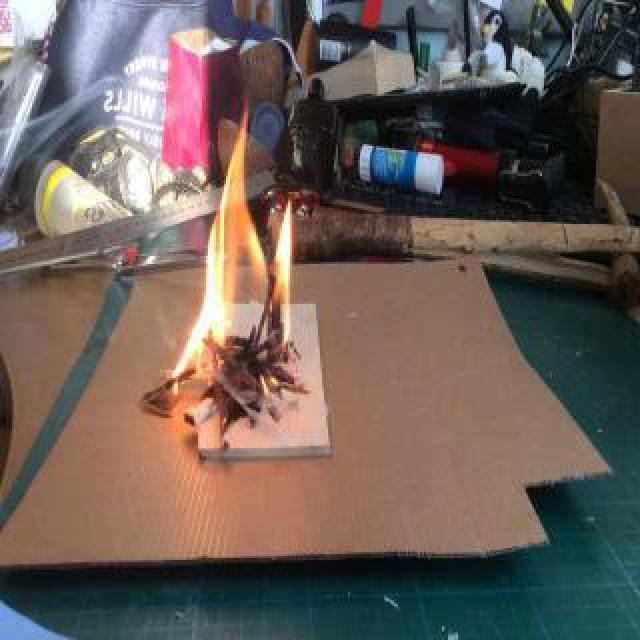Fire: (174, 124, 294, 436)
